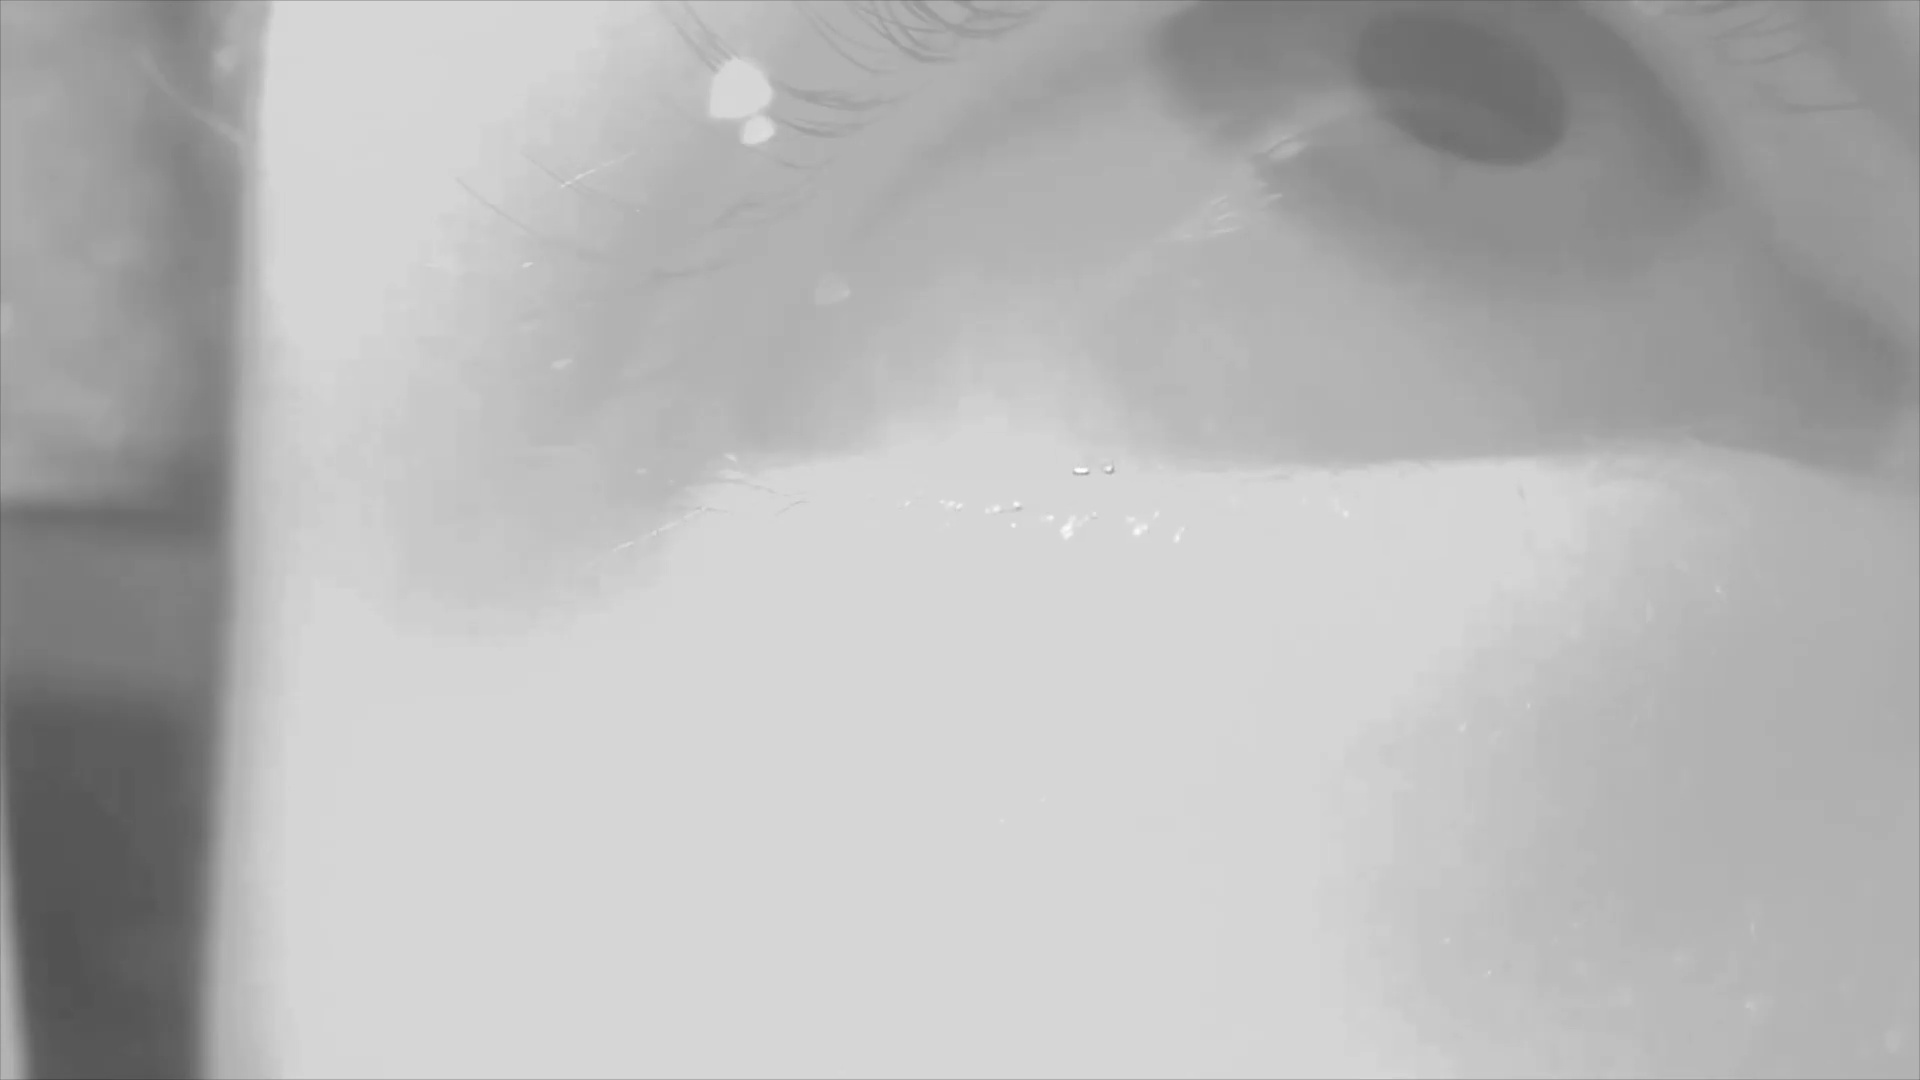pupil: (1354, 7, 1573, 167)
